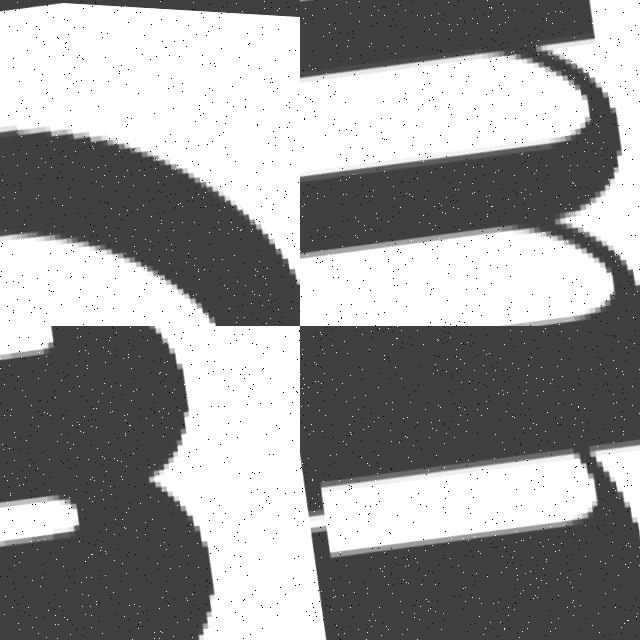C: (0, 124, 300, 326)
H: (300, 326, 640, 640)
M: (300, 0, 640, 326), (0, 326, 268, 640)
